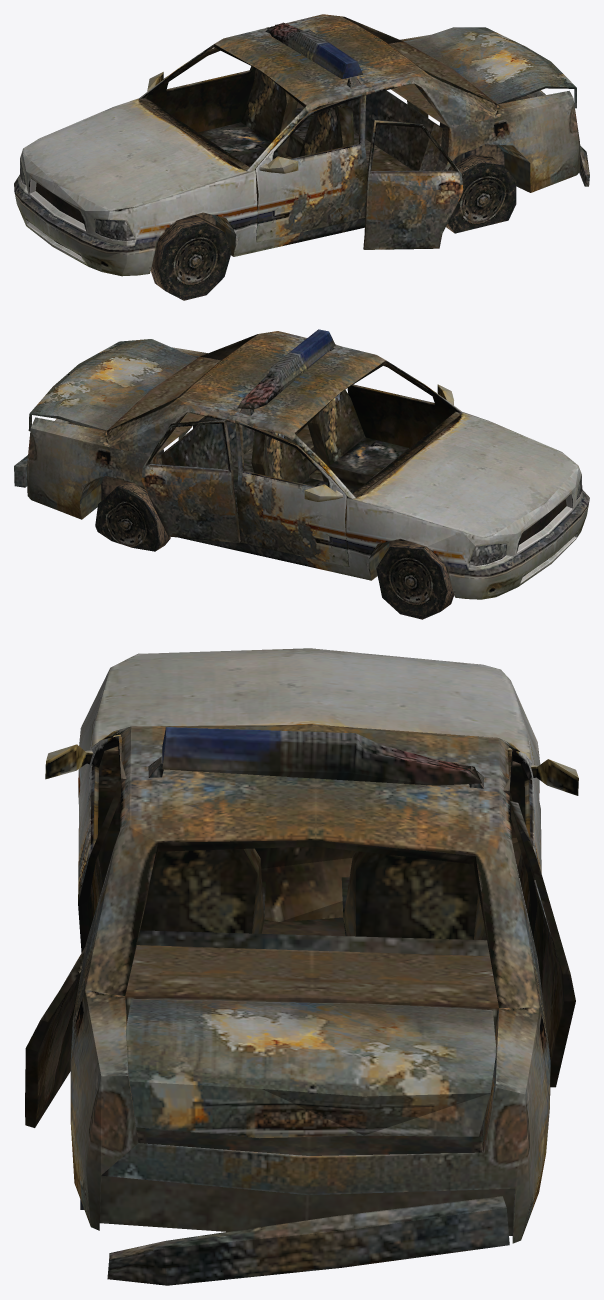
File: Vehicle_BxShdzcCar01.glb
The picture shows the model from 3 angles, top to bottom: view 1: azimuth 30°, elevation 25°; view 2: azimuth 150°, elevation 25°; view 3: azimuth 270°, elevation 25°; orthographic projection. The views are drawn at different scales.
Visible parts, largest first — view 1: bx_shdzc_car01; view 2: bx_shdzc_car01; view 3: bx_shdzc_car01.
Boxes of the visible parts, bbox=[...] form: bx_shdzc_car01: bbox=[14, 14, 589, 300]; bx_shdzc_car01: bbox=[14, 329, 589, 619]; bx_shdzc_car01: bbox=[25, 648, 578, 1285].
Size of the model in its own units: 6.1 by 2.07 by 2.92.
Materials: 1 (1 with a texture image).
